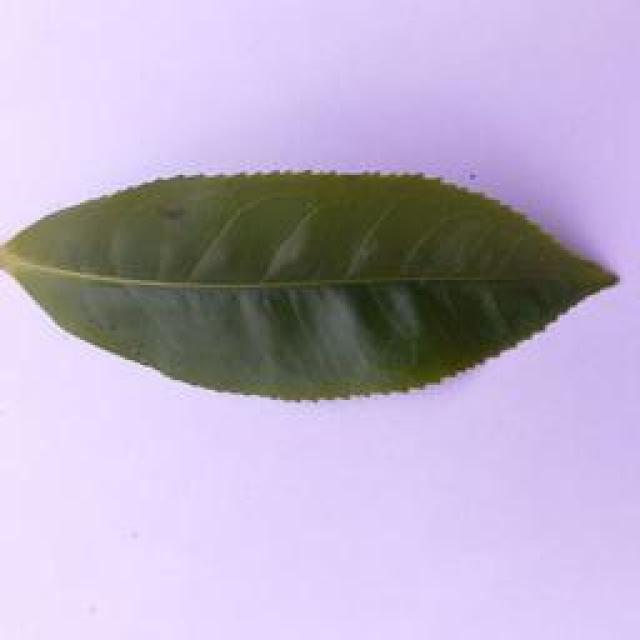Healthy: (0, 156, 640, 418)
